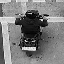mobil: (9, 8, 55, 57)
